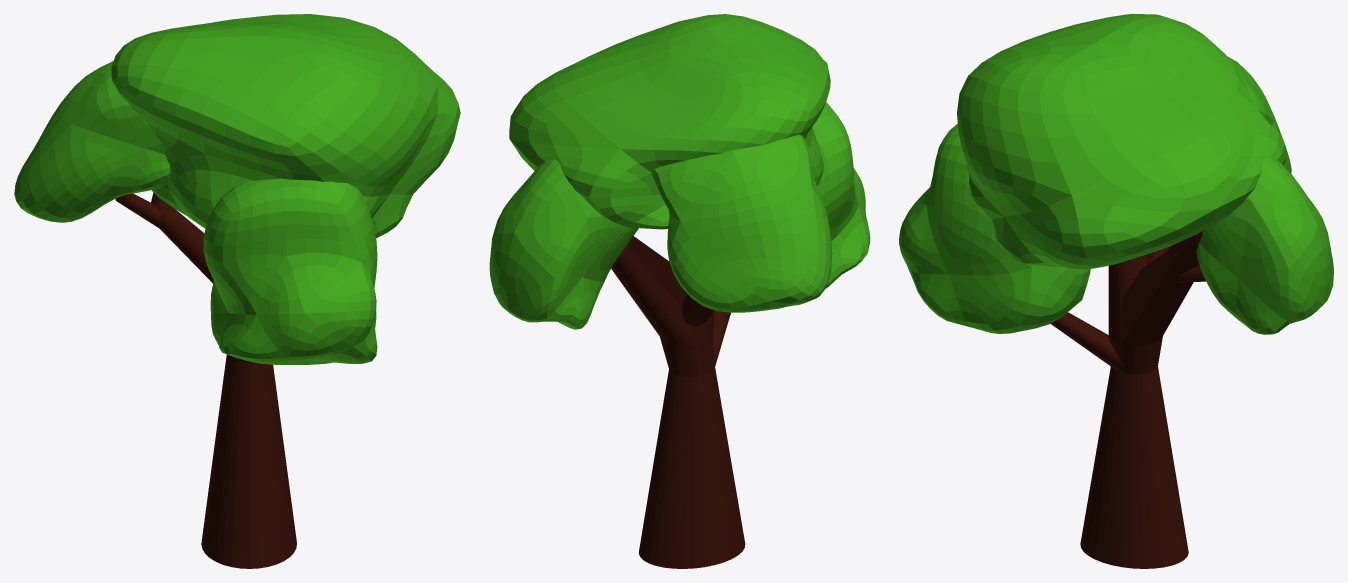
The model's file is TreeA.fbx.
3 renders of one model, left to right at view 1: azimuth 30°, elevation 25°; view 2: azimuth 150°, elevation 25°; view 3: azimuth 270°, elevation 25°, orthographic. The views are drawn at different scales.
Parts seen in each view (by area): view 1: TreeA; view 2: TreeA; view 3: TreeA.
Boxes of the visible parts, x1,y1,x2,y2 form: TreeA: (14, 14, 460, 568); TreeA: (489, 14, 870, 568); TreeA: (899, 14, 1333, 568).
Size of the model in its own units: 613 by 820 by 644.
